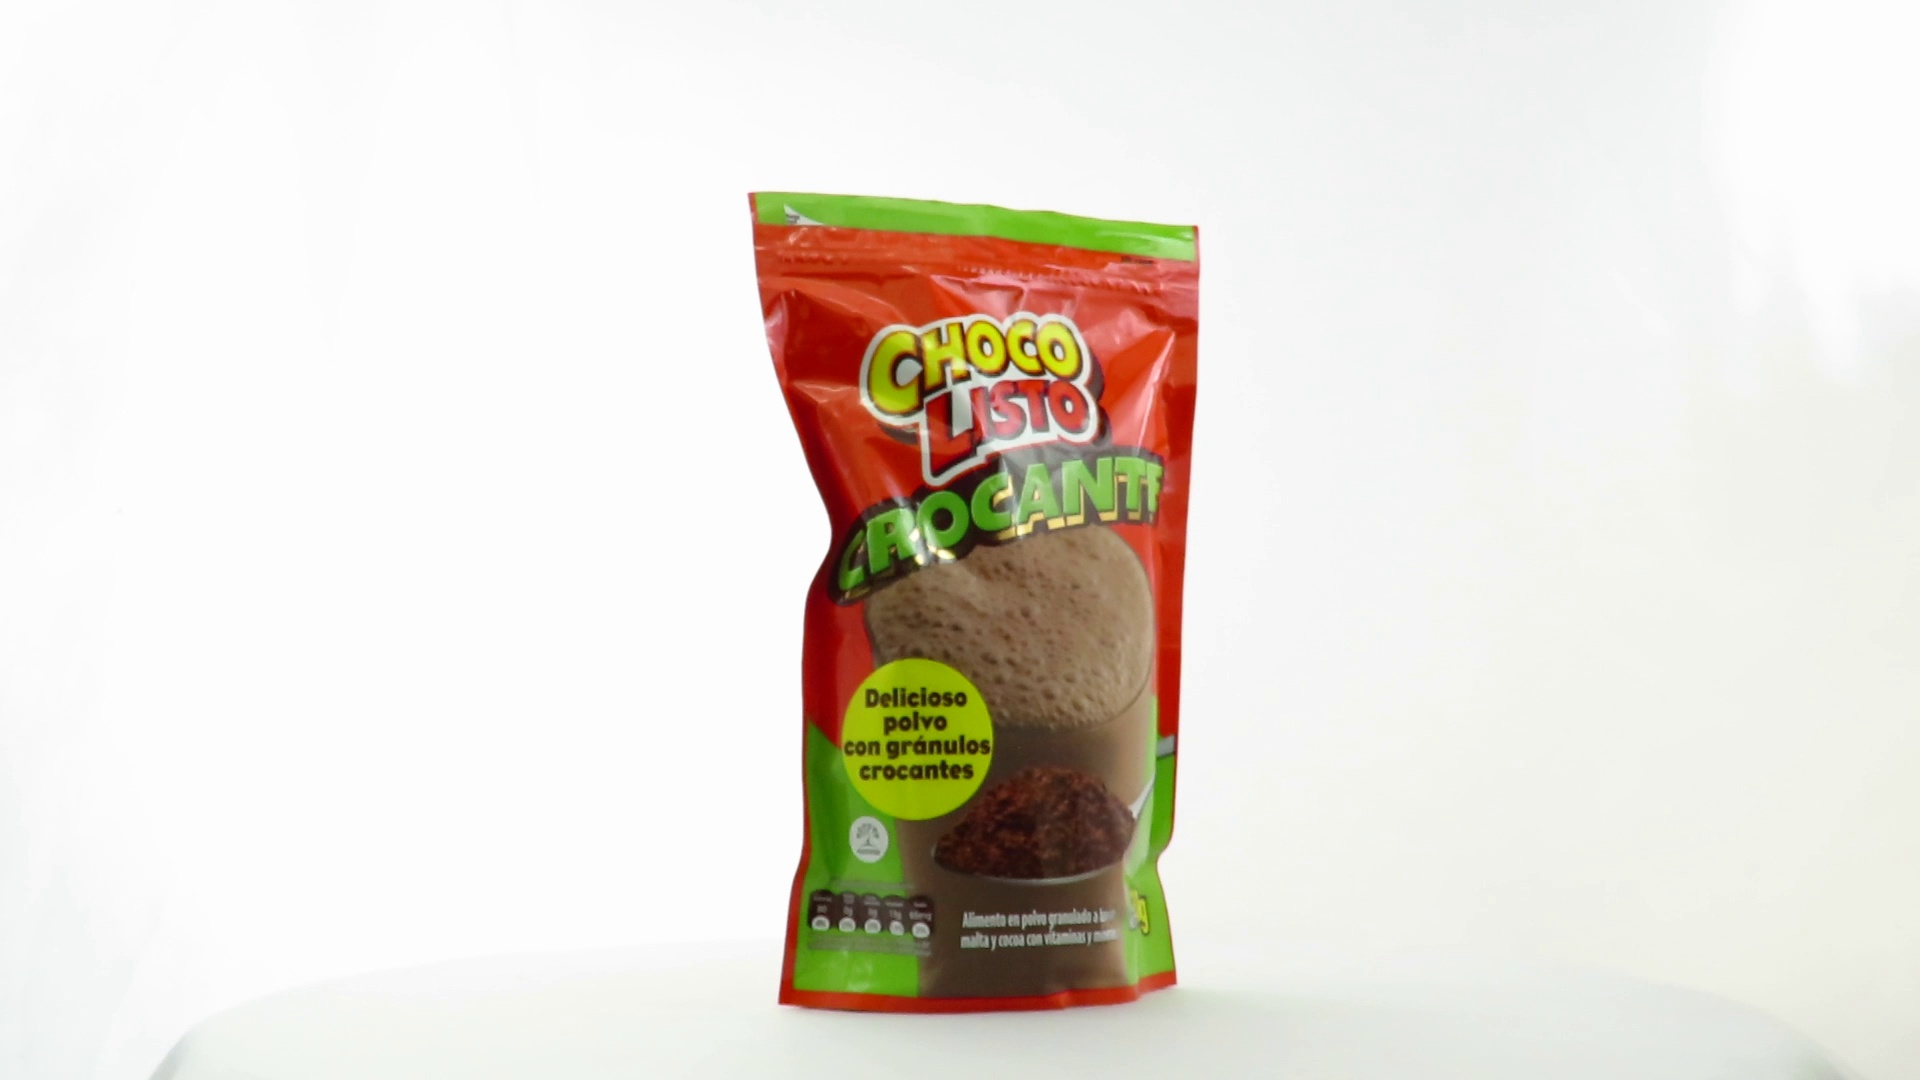COL0170102DYP50000: (742, 186, 1207, 1021)
